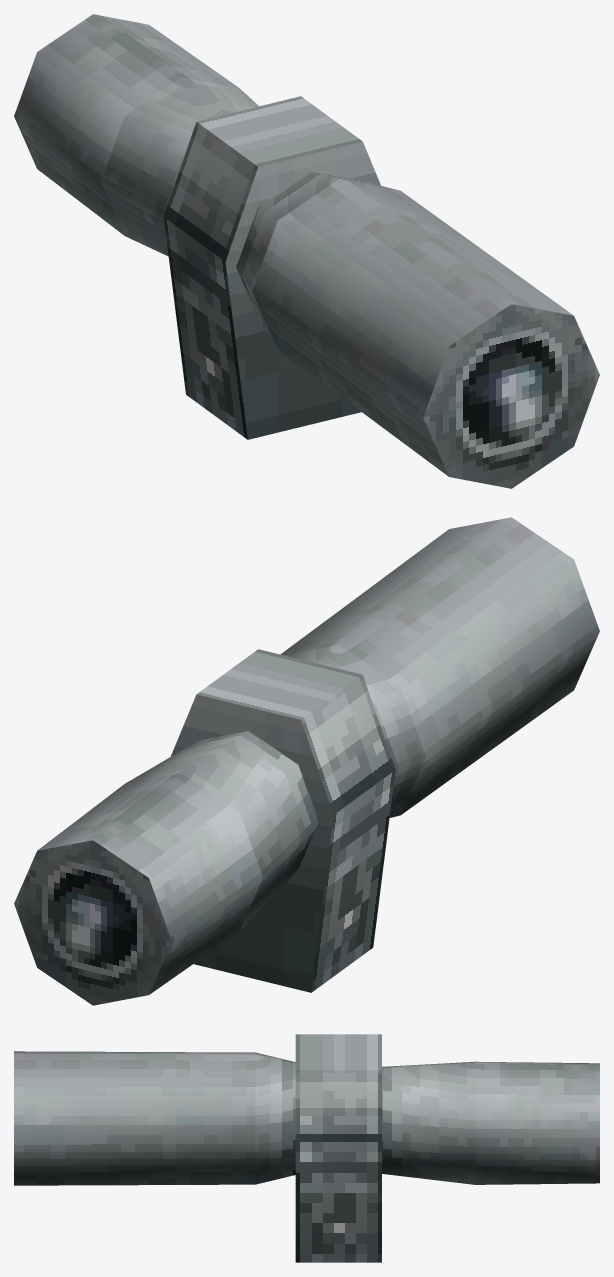
File: wp_scope_sm_s06_l0.fbx
The picture shows the model from 3 angles, top to bottom: view 1: azimuth 30°, elevation 25°; view 2: azimuth 150°, elevation 25°; view 3: azimuth 270°, elevation 25°; orthographic projection. The views are drawn at different scales.
Parts seen in each view (by area): view 1: mesh_node; view 2: mesh_node; view 3: mesh_node.
Part boxes in pixels (left/top/right/bottom): mesh_node: left=14, top=14, right=599, bottom=488; mesh_node: left=14, top=517, right=599, bottom=1005; mesh_node: left=14, top=1034, right=599, bottom=1262.
Bounding box in the file's own units: 0.0288 × 0.0421 × 0.118.
1 material, 1 textured.
